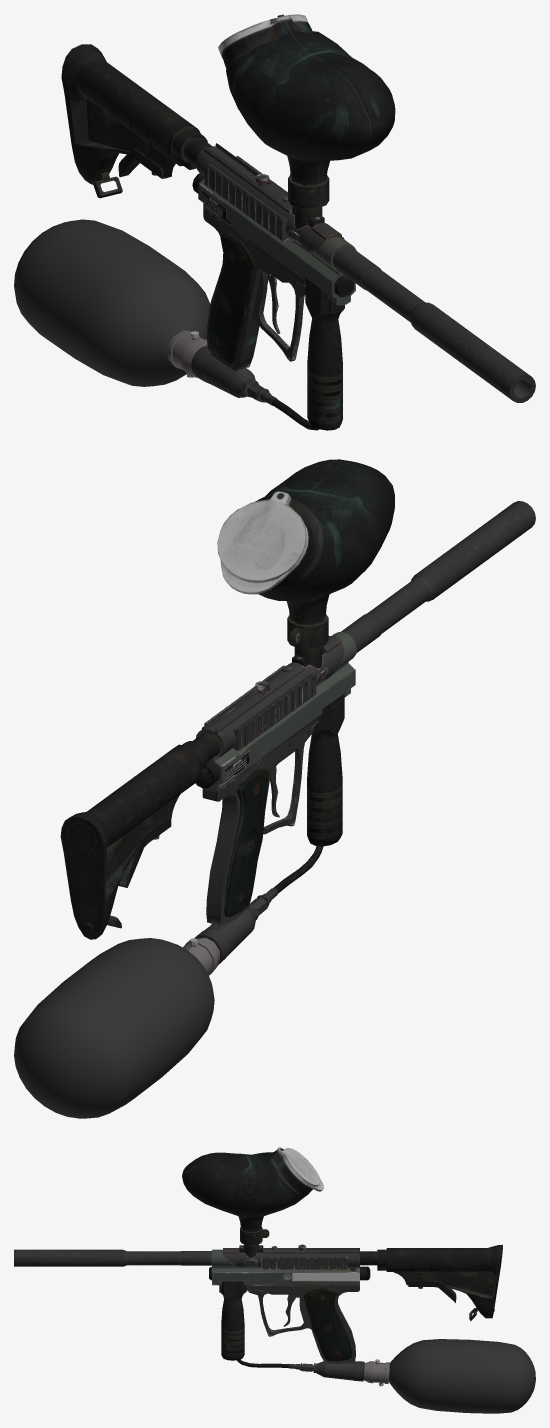
The picture shows the model from 3 angles, top to bottom: view 1: azimuth 30°, elevation 25°; view 2: azimuth 150°, elevation 25°; view 3: azimuth 270°, elevation 25°; orthographic projection. The views are drawn at different scales.
Parts seen in each view (by area): view 1: Decal logo, real gas tank, gas Cylinder.; view 2: Decal logo, real gas tank, gas Cylinder.; view 3: Decal logo, real gas tank, gas Cylinder..
Part boxes in pixels (bbox=[...]): Decal logo: bbox=[61, 14, 535, 430]; real gas tank: bbox=[14, 219, 210, 386]; gas Cylinder.: bbox=[167, 330, 207, 377]; Decal logo: bbox=[60, 459, 535, 964]; real gas tank: bbox=[14, 938, 214, 1118]; gas Cylinder.: bbox=[183, 937, 219, 975]; Decal logo: bbox=[14, 1147, 502, 1381]; real gas tank: bbox=[389, 1339, 535, 1413]; gas Cylinder.: bbox=[363, 1361, 389, 1383].
Size of the model in its own units: 12.04 by 44.05 by 79.7.
4 materials, 1 textured.
